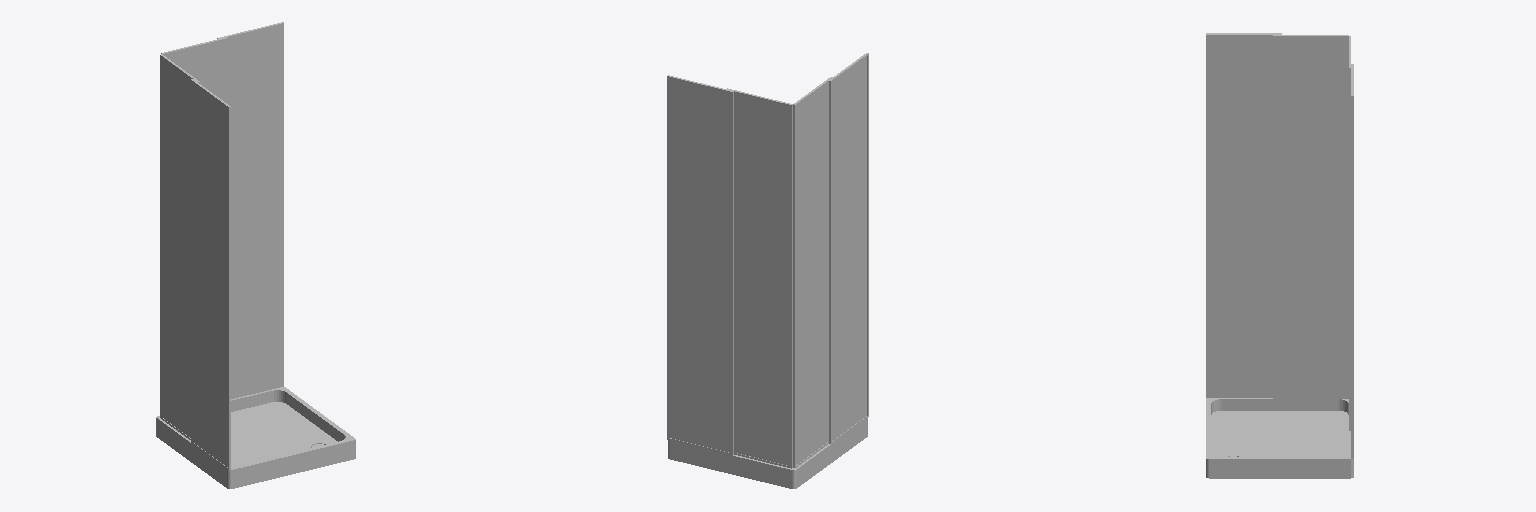
The model's file is bath.obj.
The picture shows the model from 3 angles: view 1: azimuth 30°, elevation 25°; view 2: azimuth 150°, elevation 25°; view 3: azimuth 270°, elevation 25°; orthographic projection.
Parts seen in each view (by area): view 1: Box16_4, Box20_10, Box19_8, Rectangle06_2, Box18_6, Rectangle13_9, Rectangle07_3, Rectangle12_7; view 2: Box16_4, Box18_6, Box20_10, Box19_8, Rectangle06_2, Rectangle07_3, Rectangle13_9, Rectangle11_5, Rectangle12_7; view 3: Box19_8, Box20_10, Rectangle06_2, Rectangle12_7, Rectangle07_3, Rectangle13_9, Rectangle11_5.
Part boxes in pixels (left/top/right/bottom): Box16_4: left=228, top=25, right=282, bottom=396; Box20_10: left=192, top=83, right=227, bottom=466; Box19_8: left=161, top=58, right=190, bottom=437; Rectangle06_2: left=156, top=387, right=355, bottom=488; Box18_6: left=164, top=41, right=225, bottom=102; Rectangle13_9: left=191, top=79, right=230, bottom=470; Rectangle07_3: left=217, top=22, right=283, bottom=398; Rectangle12_7: left=160, top=54, right=199, bottom=439; Box16_4: left=669, top=79, right=730, bottom=452; Box18_6: left=734, top=93, right=789, bottom=465; Box20_10: left=832, top=57, right=866, bottom=440; Box19_8: left=796, top=83, right=828, bottom=464; Rectangle06_2: left=668, top=418, right=867, bottom=488; Rectangle07_3: left=667, top=75, right=733, bottom=455; Rectangle13_9: left=829, top=53, right=868, bottom=443; Rectangle11_5: left=727, top=88, right=792, bottom=468; Rectangle12_7: left=793, top=77, right=832, bottom=467; Box19_8: left=1275, top=38, right=1345, bottom=396; Box20_10: left=1208, top=37, right=1272, bottom=395; Rectangle06_2: left=1206, top=398, right=1353, bottom=478; Rectangle12_7: left=1273, top=35, right=1348, bottom=398; Rectangle07_3: left=1351, top=64, right=1353, bottom=458; Rectangle13_9: left=1206, top=33, right=1281, bottom=397; Rectangle11_5: left=1349, top=36, right=1350, bottom=430.
Bounding box in the file's own units: 70.03 × 200 × 70.